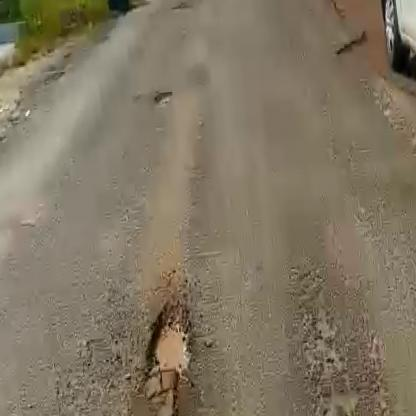pothole: (130, 297, 208, 416)
